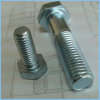screw: (37, 1, 94, 91), (13, 25, 49, 81)
